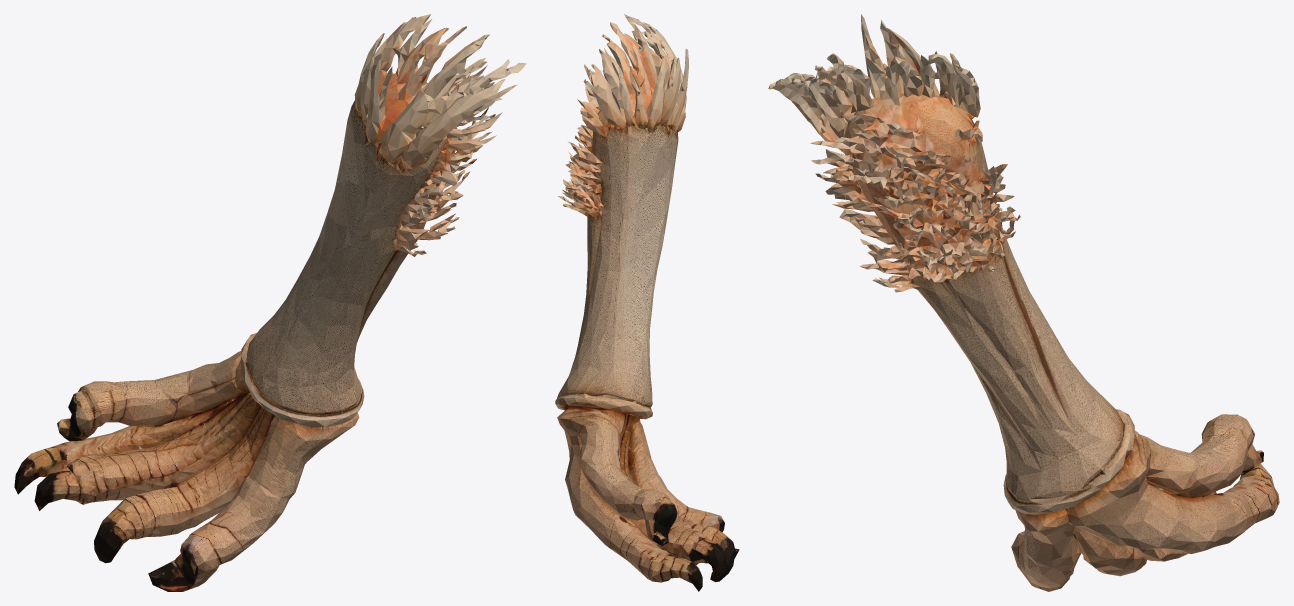
The model's file is foot (49).glb.
The picture shows the model from 3 angles, left to right: view 1: azimuth 30°, elevation 25°; view 2: azimuth 150°, elevation 25°; view 3: azimuth 270°, elevation 25°; orthographic projection. The views are drawn at different scales.
Visible parts, largest first — view 1: Hy21_Mesh.obj; view 2: Hy21_Mesh.obj; view 3: Hy21_Mesh.obj.
Boxes of the visible parts, box(x1,y1,x2,y2) form: Hy21_Mesh.obj: box(14, 14, 526, 591); Hy21_Mesh.obj: box(555, 14, 739, 591); Hy21_Mesh.obj: box(768, 14, 1279, 591).
Size of the model in its own units: 1.13 by 1.95 by 1.4.
Materials: 1 (1 with a texture image).
